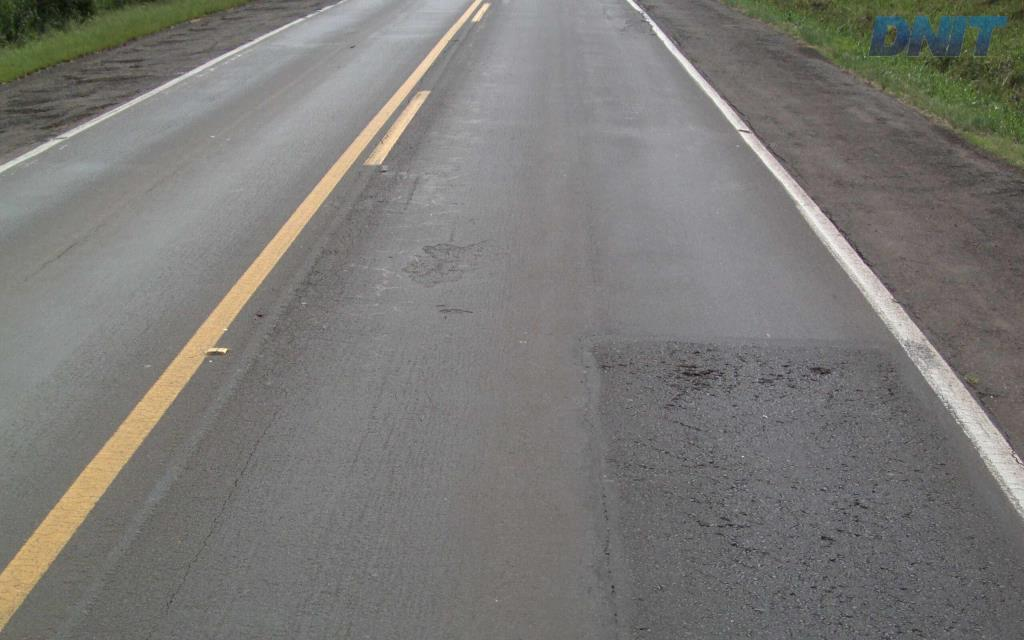crack: (713, 492, 770, 576), (655, 357, 740, 410)
